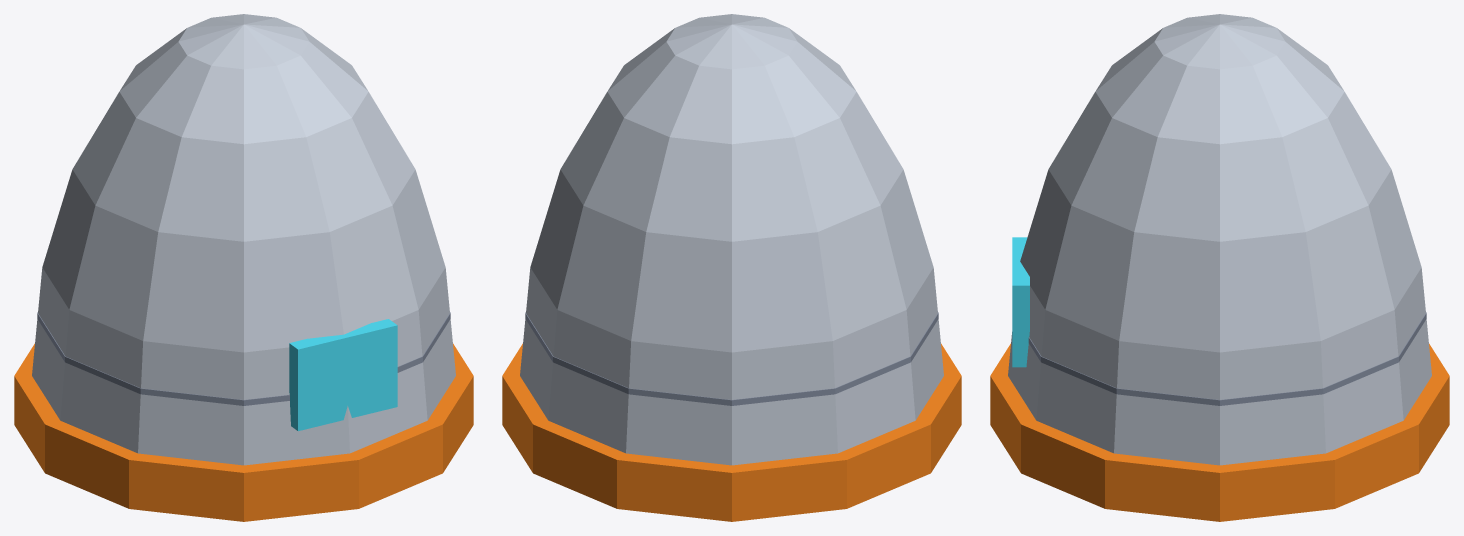
File: env_r9_reactor_dome.glb
3 views of the same model, side by side, from view 1: azimuth 30°, elevation 25°; view 2: azimuth 150°, elevation 25°; view 3: azimuth 270°, elevation 25° (orthographic).
Visible parts, largest first — view 1: env_r9_reactor_dome; view 2: env_r9_reactor_dome; view 3: env_r9_reactor_dome.
Boxes of the visible parts, box(x1,y1,x2,y2) form: env_r9_reactor_dome: box(14, 14, 473, 521); env_r9_reactor_dome: box(502, 14, 961, 521); env_r9_reactor_dome: box(990, 14, 1449, 521).
Bounding box in the file's own units: 5.2 × 5 × 5.2.
1 material, 1 textured.
